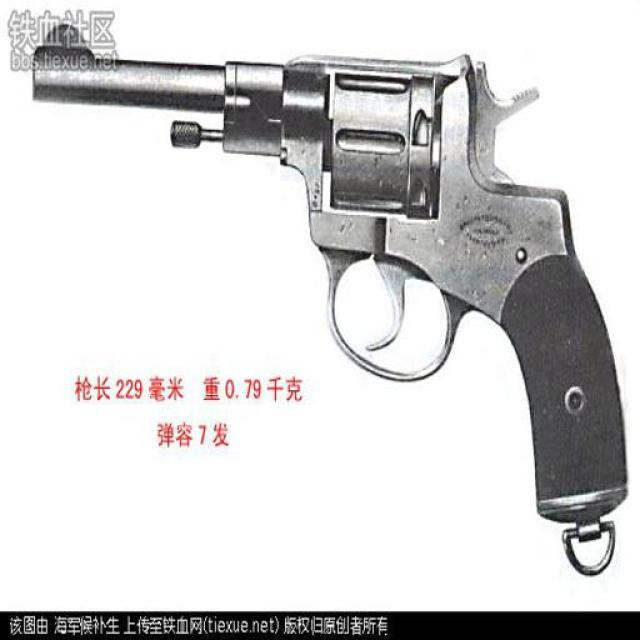pistol: (26, 26, 625, 524)
